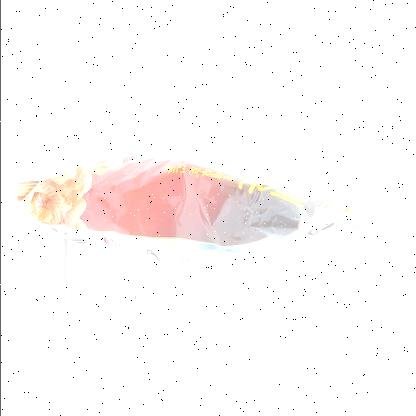Others: (10, 147, 406, 275)
